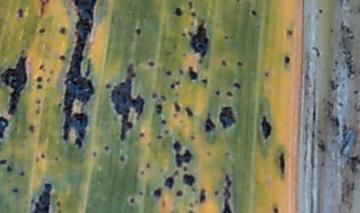tarspot: (64, 1, 96, 150), (111, 64, 145, 142), (1, 56, 29, 115), (189, 19, 209, 62), (33, 183, 52, 213), (224, 174, 234, 213), (220, 106, 236, 129), (260, 116, 271, 139), (205, 116, 216, 132), (1, 116, 8, 139), (40, 1, 50, 17), (279, 152, 286, 174), (183, 173, 194, 186), (188, 66, 198, 80), (84, 59, 92, 76), (164, 176, 174, 188), (183, 150, 192, 163), (311, 46, 321, 57), (173, 140, 182, 152), (175, 153, 183, 166), (184, 106, 193, 117), (152, 187, 161, 197), (200, 189, 206, 203), (175, 7, 183, 17), (156, 103, 163, 114), (176, 185, 183, 196), (318, 143, 327, 151), (174, 101, 180, 112), (28, 124, 35, 133), (147, 60, 155, 67), (233, 82, 241, 89), (285, 55, 290, 65), (286, 29, 293, 36), (12, 187, 19, 194), (18, 9, 24, 17), (251, 9, 257, 17), (335, 115, 339, 127), (1, 158, 7, 165), (161, 95, 167, 102), (156, 134, 163, 140), (237, 60, 243, 67), (226, 91, 233, 97), (173, 169, 179, 176), (19, 170, 26, 176), (7, 165, 12, 173), (120, 155, 125, 163), (188, 1, 193, 9), (39, 28, 45, 34), (60, 28, 66, 34), (37, 83, 43, 89), (106, 83, 112, 89), (139, 132, 145, 138), (21, 48, 27, 54), (40, 153, 46, 159), (92, 151, 98, 157), (191, 11, 197, 17), (161, 119, 167, 125), (223, 150, 229, 156), (136, 28, 141, 35), (60, 55, 66, 60), (37, 76, 43, 81), (49, 69, 54, 75), (166, 71, 172, 76), (179, 69, 184, 75), (202, 79, 208, 84), (318, 8, 323, 14), (273, 208, 279, 213), (214, 190, 219, 196), (138, 191, 144, 196), (191, 187, 197, 192), (152, 92, 156, 99), (162, 201, 166, 208), (39, 65, 44, 70), (35, 157, 40, 162), (104, 146, 109, 151), (182, 32, 187, 37), (224, 35, 229, 40), (159, 168, 164, 173), (45, 78, 51, 82), (58, 102, 62, 108), (36, 108, 40, 114), (222, 60, 226, 66), (216, 90, 220, 96), (183, 165, 187, 171), (57, 201, 61, 207), (188, 210, 195, 213), (37, 99, 41, 104), (171, 84, 175, 89), (165, 129, 170, 133), (146, 163, 150, 168), (173, 113, 177, 118), (183, 52, 187, 57), (265, 72, 269, 77), (131, 198, 135, 203), (140, 170, 145, 174), (189, 203, 194, 207), (57, 209, 62, 213), (55, 157, 59, 161), (176, 81, 180, 85), (191, 136, 195, 140), (207, 152, 211, 156), (207, 112, 211, 116), (191, 21, 194, 26), (235, 1, 240, 3)
